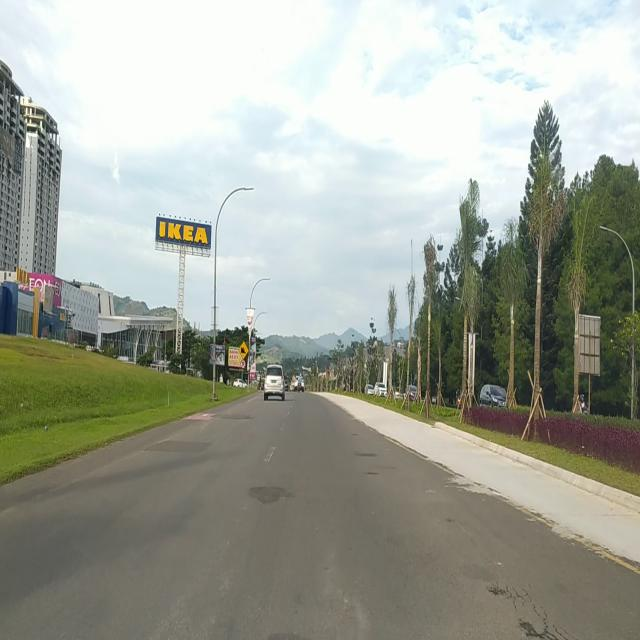Drain Hole: (496, 577, 553, 640)
